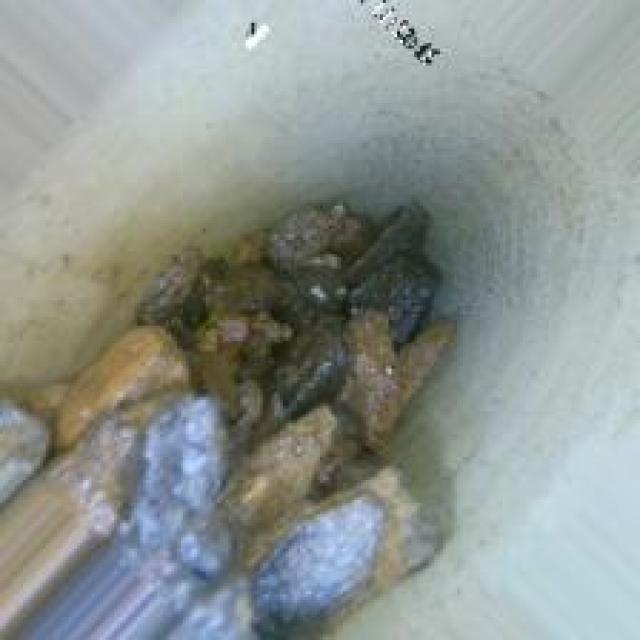stone: (69, 175, 488, 594)
